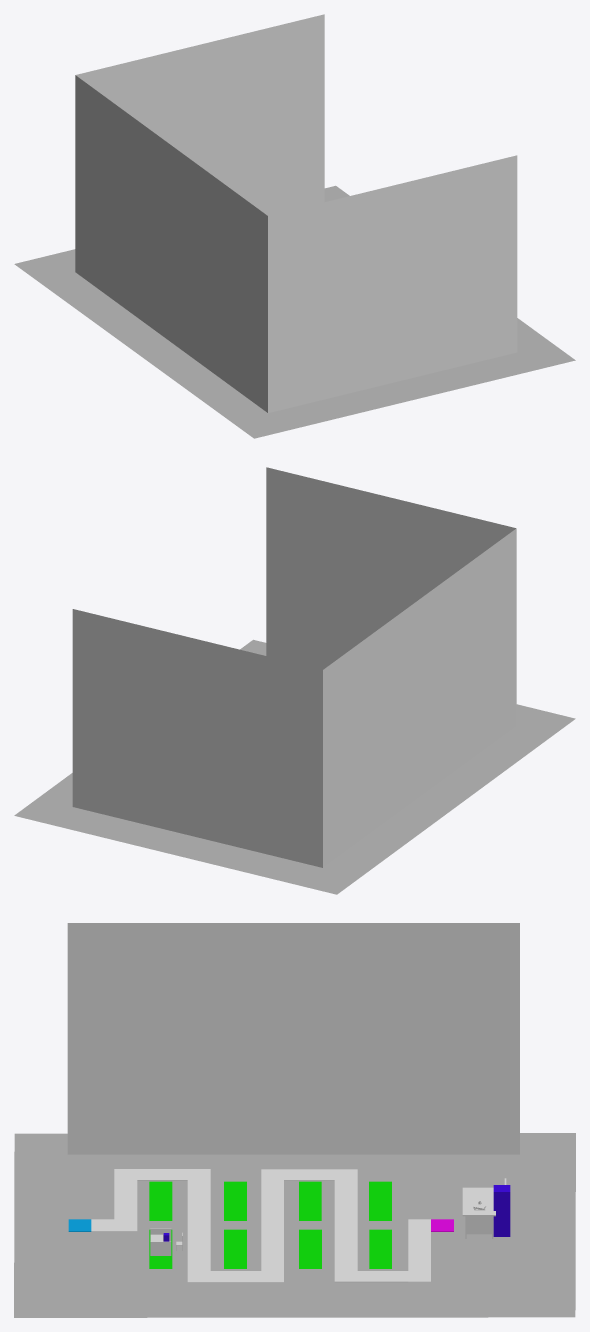
Rendered from mapa final (a principio).fbx.
The picture shows the model from 3 angles, top to bottom: view 1: azimuth 30°, elevation 25°; view 2: azimuth 150°, elevation 25°; view 3: azimuth 270°, elevation 25°; orthographic projection. The views are drawn at different scales.
Visible parts, largest first — view 1: Paredes, Chao Geral; view 2: Paredes, Chao Geral; view 3: Paredes, Chao Geral, Caminho, Area dos defensores PLACEHOLDER, Mesa del BOSS, Ref Personagem.001, Mesa dos defensores TRUE MT FODA.
Part boxes in pixels (x1,y1,x2,y2): Paredes: [75, 14, 517, 413]; Chao Geral: [14, 185, 575, 438]; Paredes: [72, 467, 516, 867]; Chao Geral: [14, 639, 575, 894]; Paredes: [67, 923, 519, 1154]; Chao Geral: [14, 1133, 575, 1317]; Caminho: [91, 1169, 430, 1282]; Area dos defensores PLACEHOLDER: [149, 1181, 391, 1268]; Mesa del BOSS: [462, 1187, 495, 1238]; Ref Personagem.001: [493, 1185, 510, 1236]; Mesa dos defensores TRUE MT FODA: [150, 1228, 171, 1255].
Bounding box in the file's own units: 15792 × 9282 × 20284.
